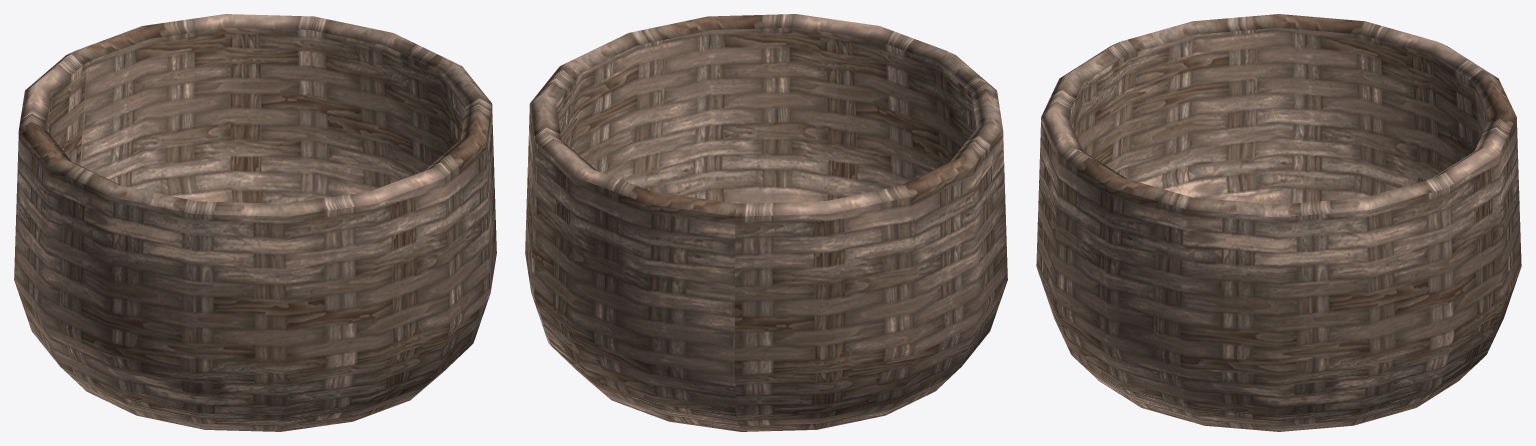
File: Basket01.FBX
3 renders of one model, left to right at view 1: azimuth 30°, elevation 25°; view 2: azimuth 150°, elevation 25°; view 3: azimuth 270°, elevation 25°, orthographic.
Visible parts, largest first — view 1: Basket01; view 2: Basket01; view 3: Basket01.
Boxes of the visible parts, x1,y1,x2,y2 form: Basket01: (14,14,496,431); Basket01: (525,14,1007,431); Basket01: (1036,14,1521,431).
Size of the model in its own units: 13.44 by 13.44 by 7.66.
